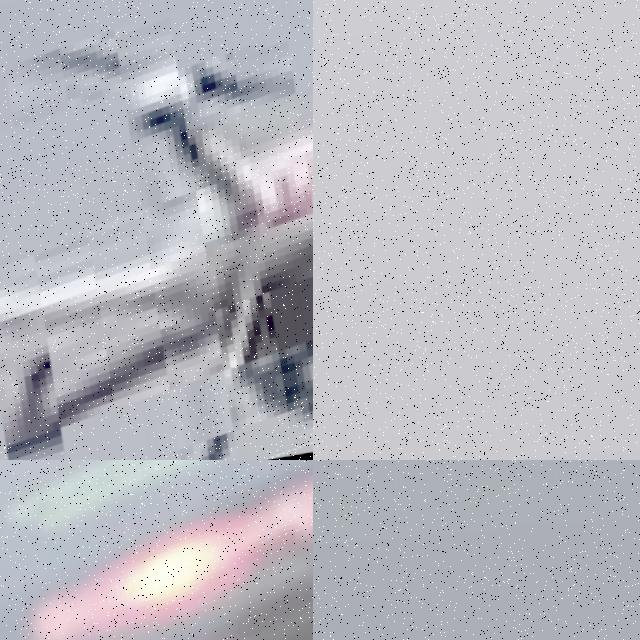0: (0, 0, 313, 460)
drone: (0, 460, 313, 640)
